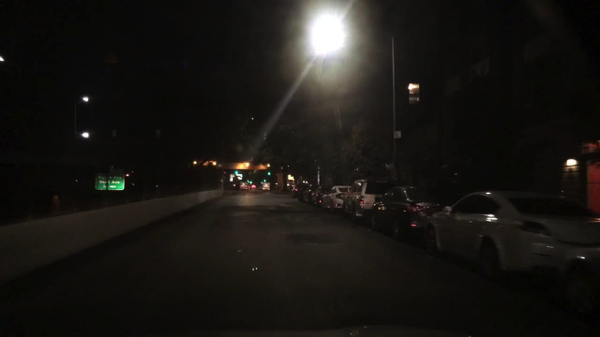car: (424, 190, 600, 283), (369, 186, 446, 241), (564, 248, 600, 309), (341, 179, 391, 220), (321, 187, 350, 210), (312, 187, 329, 206), (292, 184, 309, 198), (302, 187, 313, 202), (249, 186, 256, 191)
traffic light: (267, 171, 272, 178), (250, 180, 254, 186), (235, 169, 238, 176)
traffic sign: (108, 169, 125, 190), (95, 174, 106, 190), (391, 130, 401, 139)
truck: (262, 182, 270, 191), (239, 182, 247, 190)
